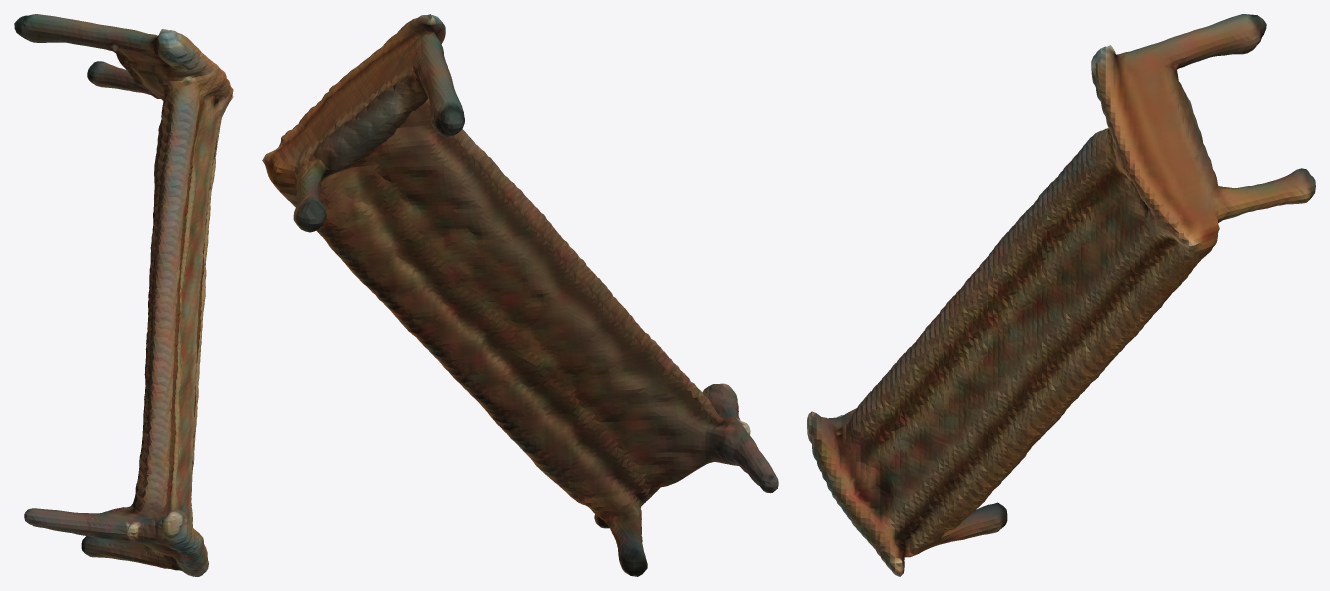
The picture shows the model from 3 angles, left to right: view 1: azimuth 30°, elevation 25°; view 2: azimuth 150°, elevation 25°; view 3: azimuth 270°, elevation 25°; orthographic projection. The views are drawn at different scales.
Size of the model in its own units: 0.6028 by 0.8628 by 0.7092.
